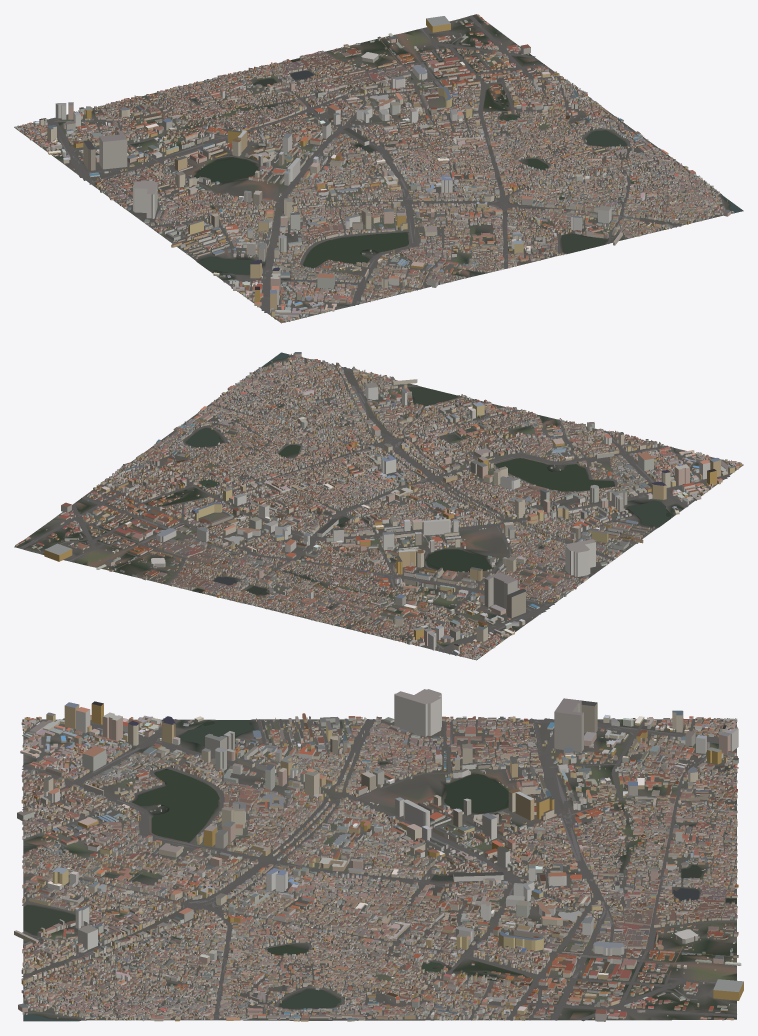
3 renders of one model, top to bottom at view 1: azimuth 30°, elevation 25°; view 2: azimuth 150°, elevation 25°; view 3: azimuth 270°, elevation 25°, orthographic. The views are drawn at different scales.
Visible parts, largest first — view 1: buildings, ground, roads, water; view 2: buildings, ground, roads, water; view 3: buildings, ground, roads, water.
Boxes of the visible parts, box(x1,y1,x2,y2) form: buildings: box(14, 14, 734, 322); ground: box(14, 14, 743, 323); roads: box(46, 15, 731, 315); water: box(83, 28, 743, 274); buildings: box(15, 352, 742, 659); ground: box(14, 355, 743, 660); roads: box(19, 355, 729, 654); water: box(43, 352, 669, 617); buildings: box(14, 689, 743, 1021); ground: box(23, 719, 736, 1021); roads: box(21, 718, 736, 1021); water: box(23, 720, 736, 1020).
Size of the model in its own units: 2840 by 165 by 2868.
